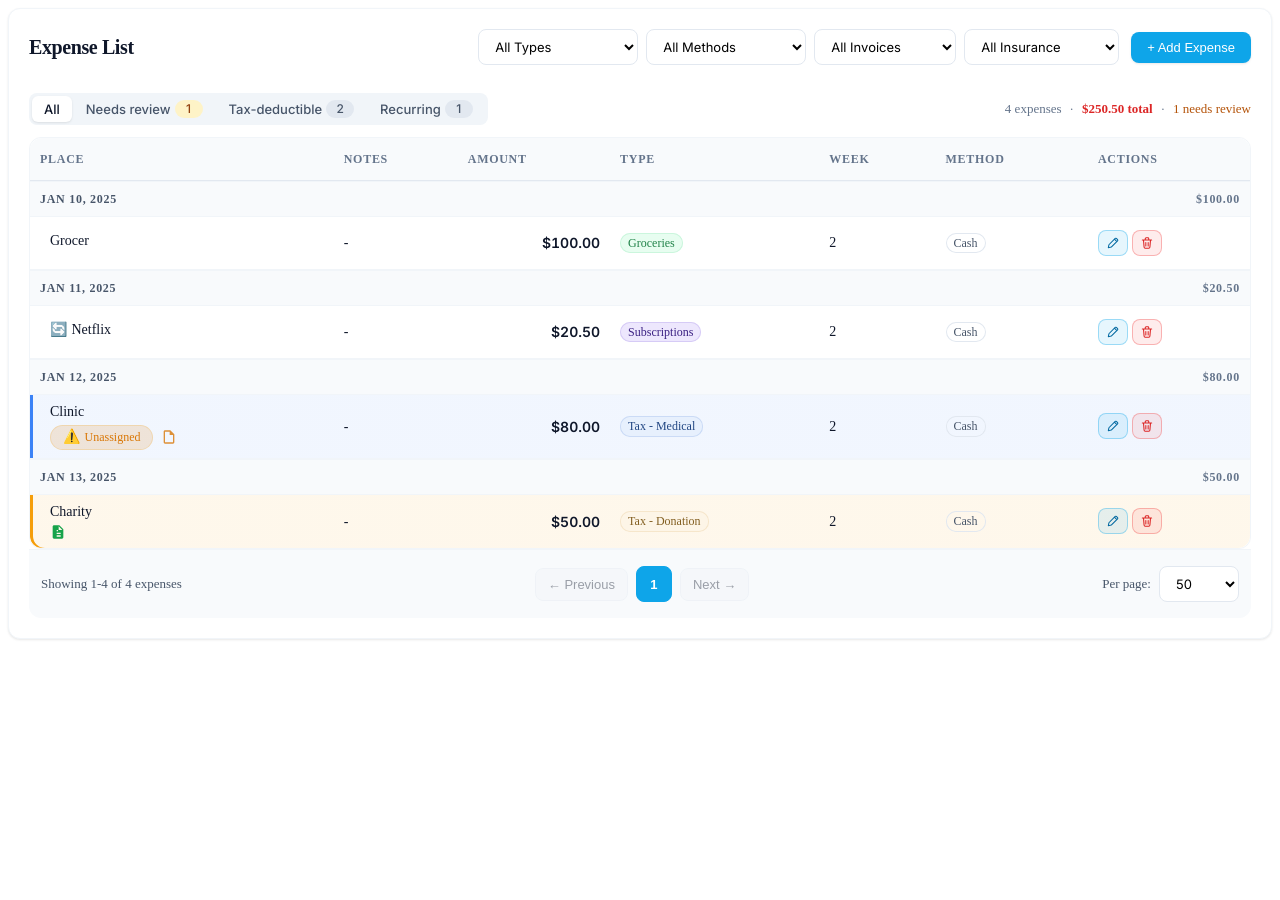
Scenario: ExpenseList - quick views and summary line › includes the active quick view in the filter status message
The image size is (1280, 900).
Select "Subscriptions" in the dropdown titled "Filter by type (current month only)" at {"x": 558, "y": 47}, box [478, 29, 638, 65]
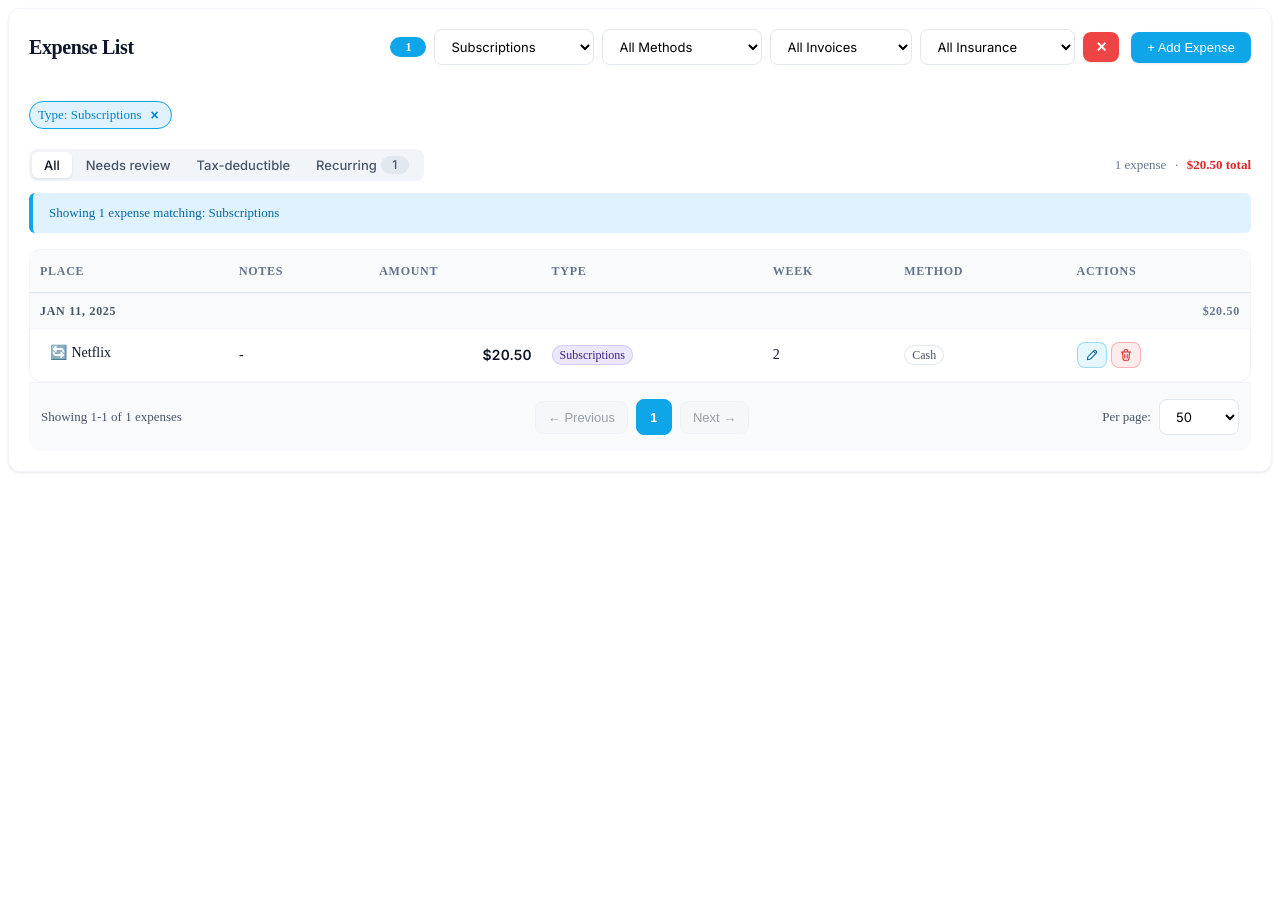
Click the button "Recurring 1" at {"x": 362, "y": 165}, box [304, 152, 421, 178]
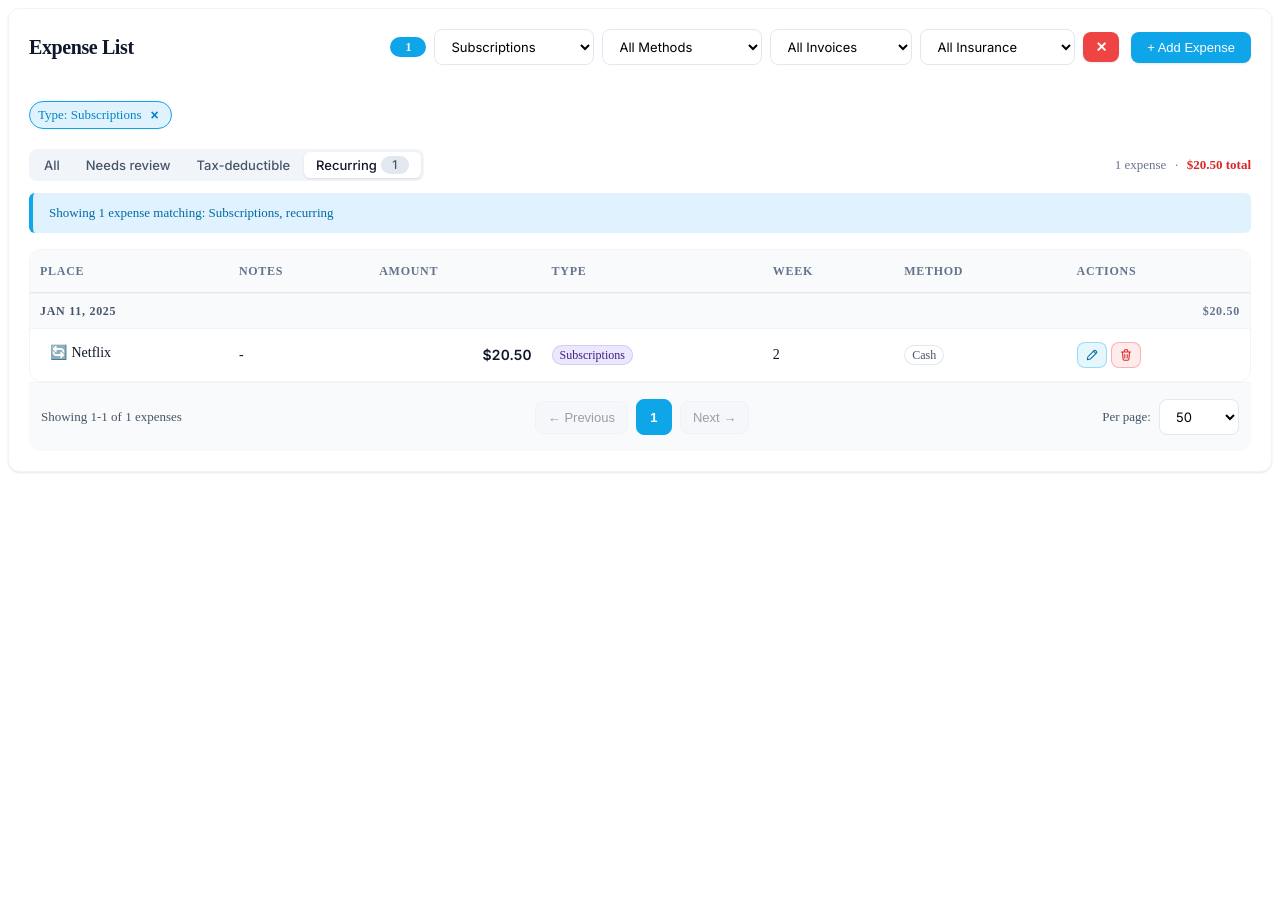
Now the text "Showing 1 expense matching: Subscriptions, recurring" is shown, box [29, 193, 1251, 233]
